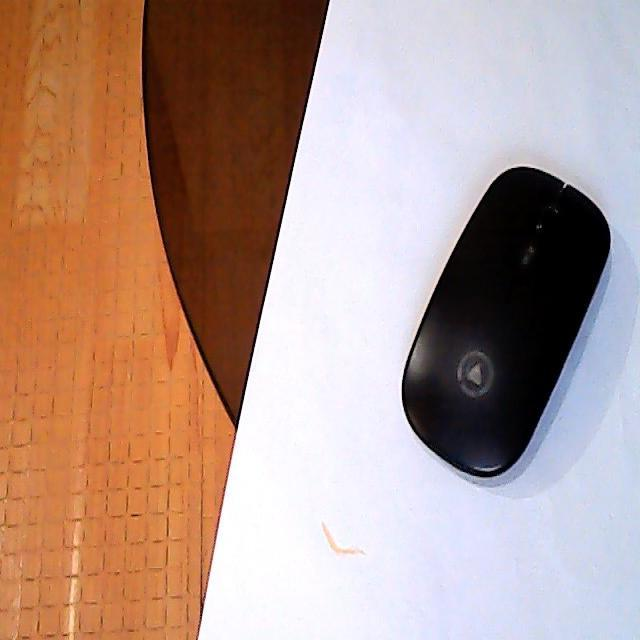mouse: (370, 160, 618, 498)
